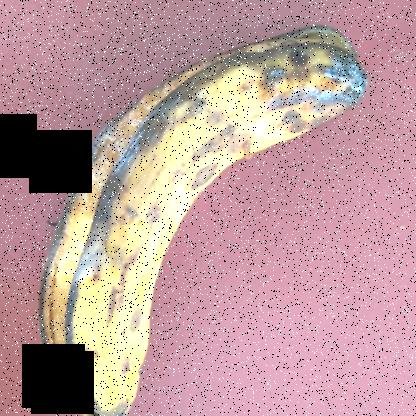rotten: (31, 22, 375, 415)
